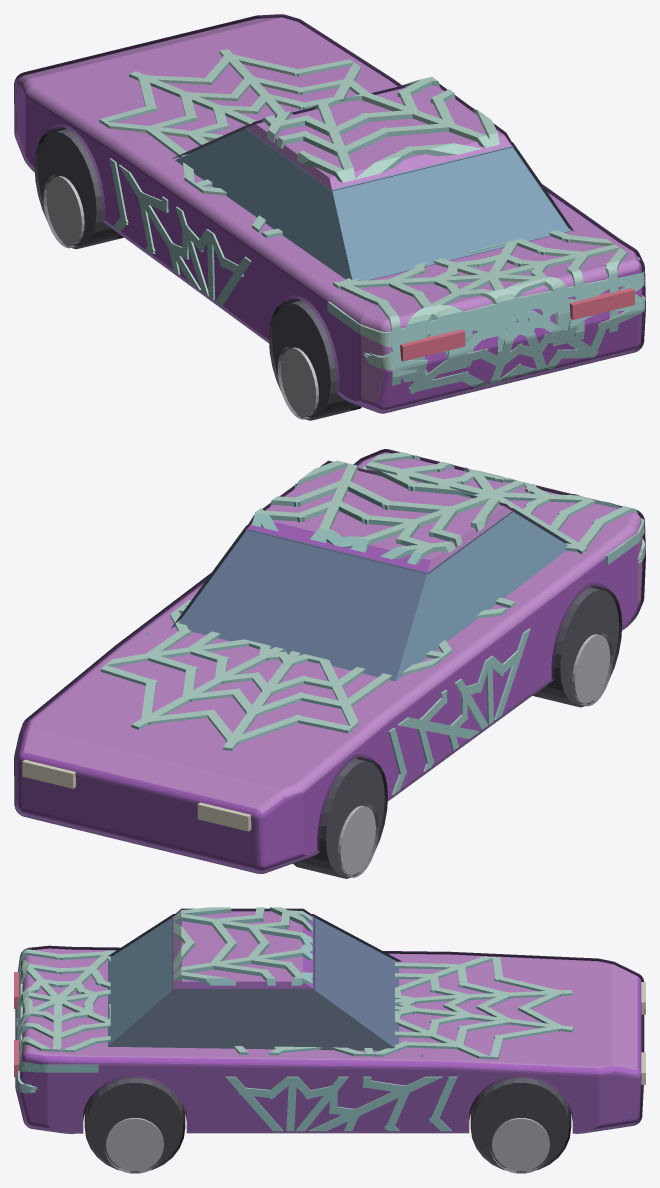
Rendered from car_brute_5.glb.
The picture shows the model from 3 angles, top to bottom: view 1: azimuth 30°, elevation 25°; view 2: azimuth 150°, elevation 25°; view 3: azimuth 270°, elevation 25°; orthographic projection. The views are drawn at different scales.
Parts seen in each view (by area): view 1: car; view 2: car; view 3: car.
Part boxes in pixels (box(x1,y1,x2,y2)): car: box(14, 14, 645, 420); car: box(14, 449, 645, 878); car: box(14, 907, 645, 1173).
Size of the model in its own units: 2.11 by 1.4 by 4.7.
